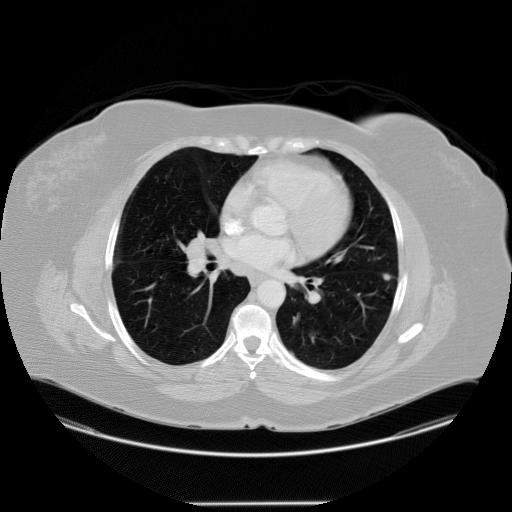nodule: (380, 271, 393, 284)
